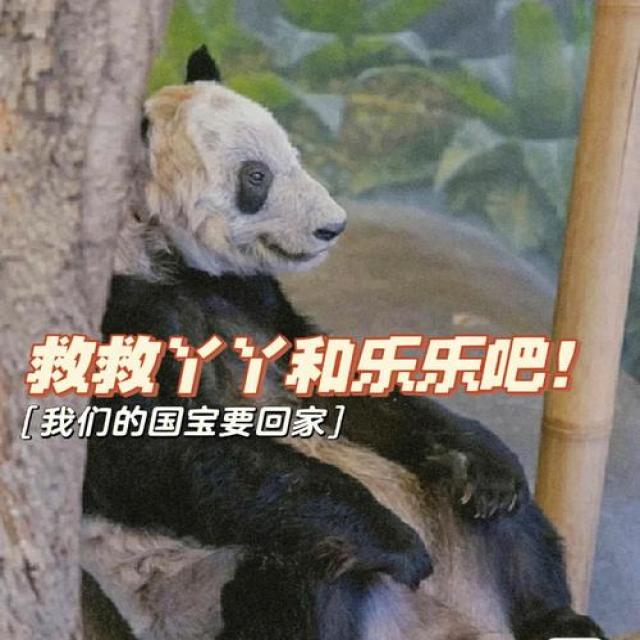panda: (33, 39, 618, 640)
